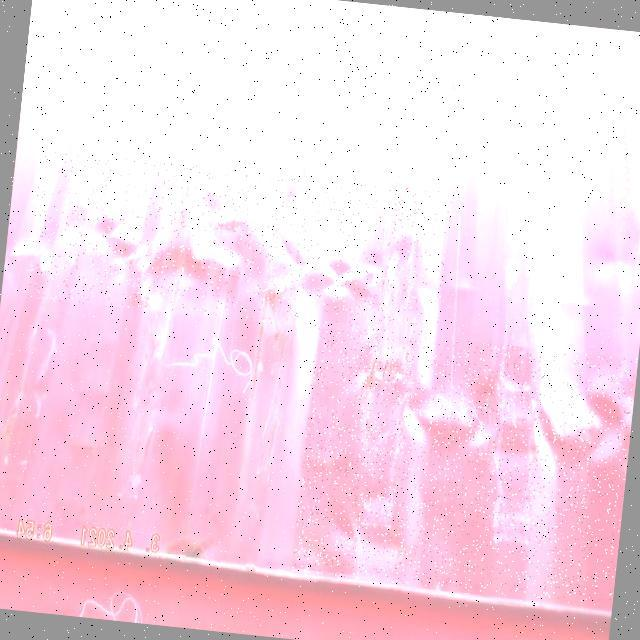Minor-Dent: (291, 326, 637, 606), (26, 149, 452, 340)
